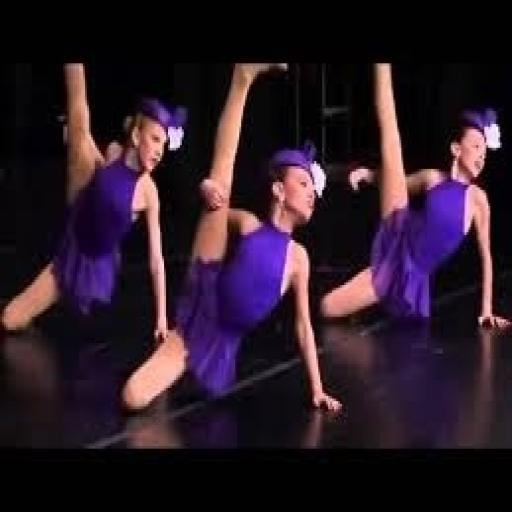dancing: (117, 58, 346, 422), (316, 56, 510, 340)
